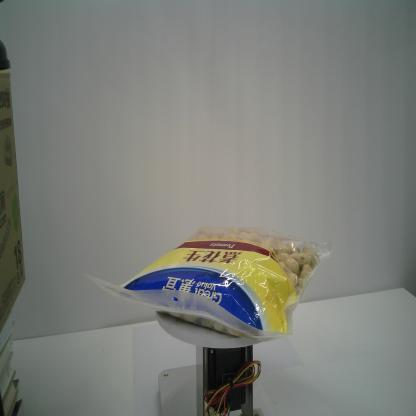Dried Food: (83, 223, 335, 343)
